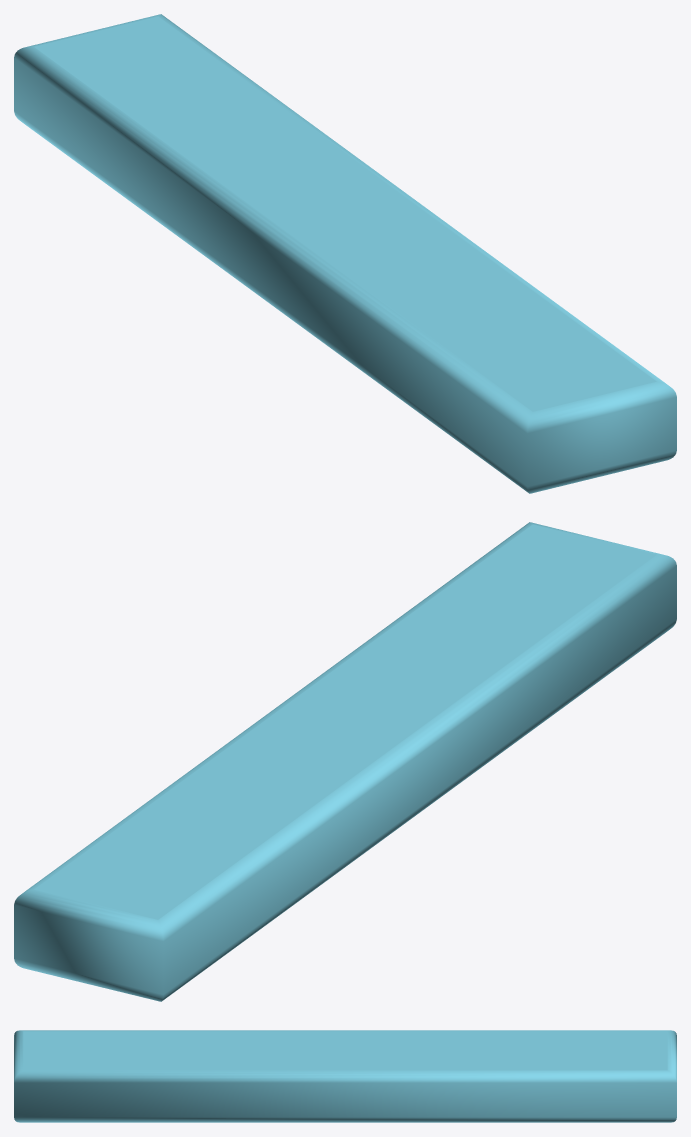
The picture shows the model from 3 angles, top to bottom: view 1: azimuth 30°, elevation 25°; view 2: azimuth 150°, elevation 25°; view 3: azimuth 270°, elevation 25°; orthographic projection. The views are drawn at different scales.
Parts seen in each view (by area): view 1: Text.002; view 2: Text.002; view 3: Text.002.
Part boxes in pixels (<box>): Text.002: <box>14,14,676,493</box>; Text.002: <box>14,522,676,1001</box>; Text.002: <box>14,1030,676,1122</box>.
Size of the model in its own units: 0.118 by 0.06 by 0.702.
